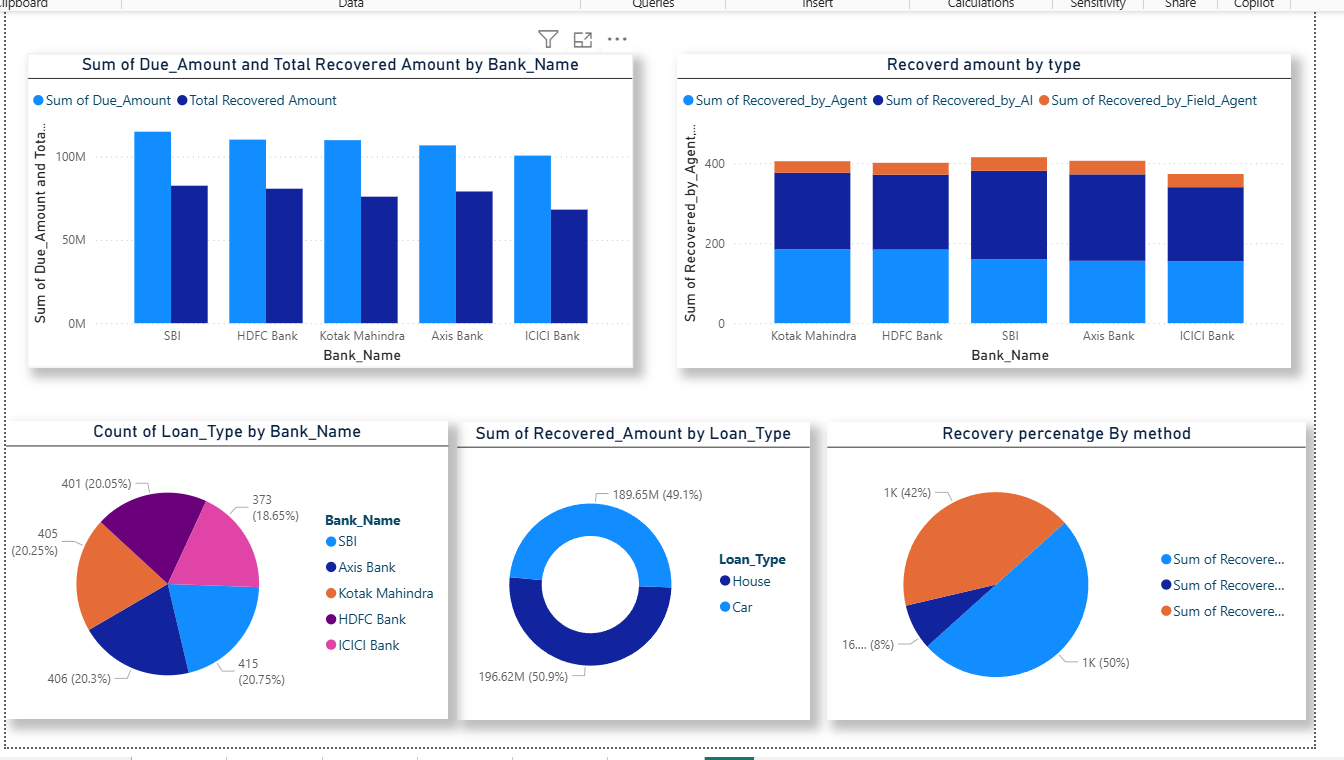

This screenshot's page, from the dashboard's own definition file:
{"tool":"powerbi","page":{"name":"Page 5","canvas":[1280,720],"ordinal":5},"visuals":[{"type":"clusteredColumnChart","fields":{"Category":["Bank_Loan_Recovery_Data_2000_AI_Enhanced.Bank_Name"],"Y":["Sum(Bank_Loan_Recovery_Data_2000_AI_Enhanced.Due_Amount)","Bank_Loan_Recovery_Data_2000_AI_Enhanced.Total Recovered Amount"]},"box":[20.8,41.6,593.1,306.9],"z":0},{"type":"pieChart","fields":{"Y":["CountNonNull(Bank_Loan_Recovery_Data_2000_AI_Enhanced.Loan_Type)"],"Category":["Bank_Loan_Recovery_Data_2000_AI_Enhanced.Bank_Name"]},"box":[0,401.1,432.9,292.3],"z":1000},{"type":"columnChart","title":"Recoverd amount by type","fields":{"Category":["Bank_Loan_Recovery_Data_2000_AI_Enhanced.Bank_Name"],"Y":["Sum(Bank_Loan_Recovery_Data_2000_AI_Enhanced.Recovered_by_Agent)","Sum(Bank_Loan_Recovery_Data_2000_AI_Enhanced.Recovered_by_AI)","Sum(Bank_Loan_Recovery_Data_2000_AI_Enhanced.Recovered_by_Field_Agent)"]},"box":[656.7,41.6,600.4,306.9],"z":2000},{"type":"donutChart","fields":{"Category":["Bank_Loan_Recovery_Data_2000_AI_Enhanced.Loan_Type"],"Y":["Sum(Bank_Loan_Recovery_Data_2000_AI_Enhanced.Recovered_Amount)"]},"box":[441.4,402.3,344.8,291],"z":3000},{"type":"pieChart","title":"Recovery percenatge By method","fields":{"Y":["Sum(Bank_Loan_Recovery_Data_2000_AI_Enhanced.Recovered_by_AI)","Sum(Bank_Loan_Recovery_Data_2000_AI_Enhanced.Recovered_by_Field_Agent)","Sum(Bank_Loan_Recovery_Data_2000_AI_Enhanced.Recovered_by_Agent)"]},"box":[803.4,402.3,468.3,291],"z":4000}]}

Visuals, with their boxes on the page's 1280x720 design canvas (x1, y1, x2, y2). These are canvas units, not pixel positions in the 1344x760 screenshot, which may show the page scaled, cropped or inside an application window:
clusteredColumnChart - Bank_Loan_Recovery_Data_2000_AI_Enhanced.Bank_Name x Sum(Bank_Loan_Recovery_Data_2000_AI_Enhanced.Due_Amount): [21,42,614,348]
pieChart - CountNonNull(Bank_Loan_Recovery_Data_2000_AI_Enhanced.Loan_Type) x Bank_Loan_Recovery_Data_2000_AI_Enhanced.Bank_Name: [0,401,433,693]
"Recoverd amount by type" columnChart: [657,42,1257,348]
donutChart - Bank_Loan_Recovery_Data_2000_AI_Enhanced.Loan_Type x Sum(Bank_Loan_Recovery_Data_2000_AI_Enhanced.Recovered_Amount): [441,402,786,693]
"Recovery percenatge By method" pieChart: [803,402,1272,693]
